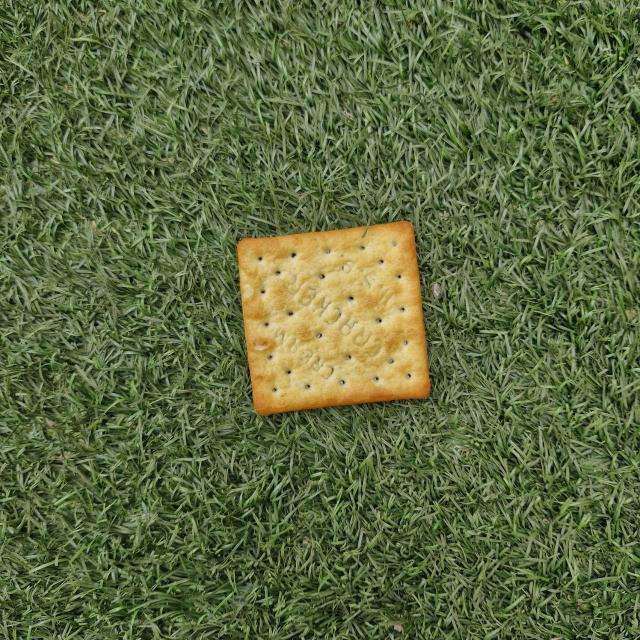food_waste: (231, 215, 437, 424)
